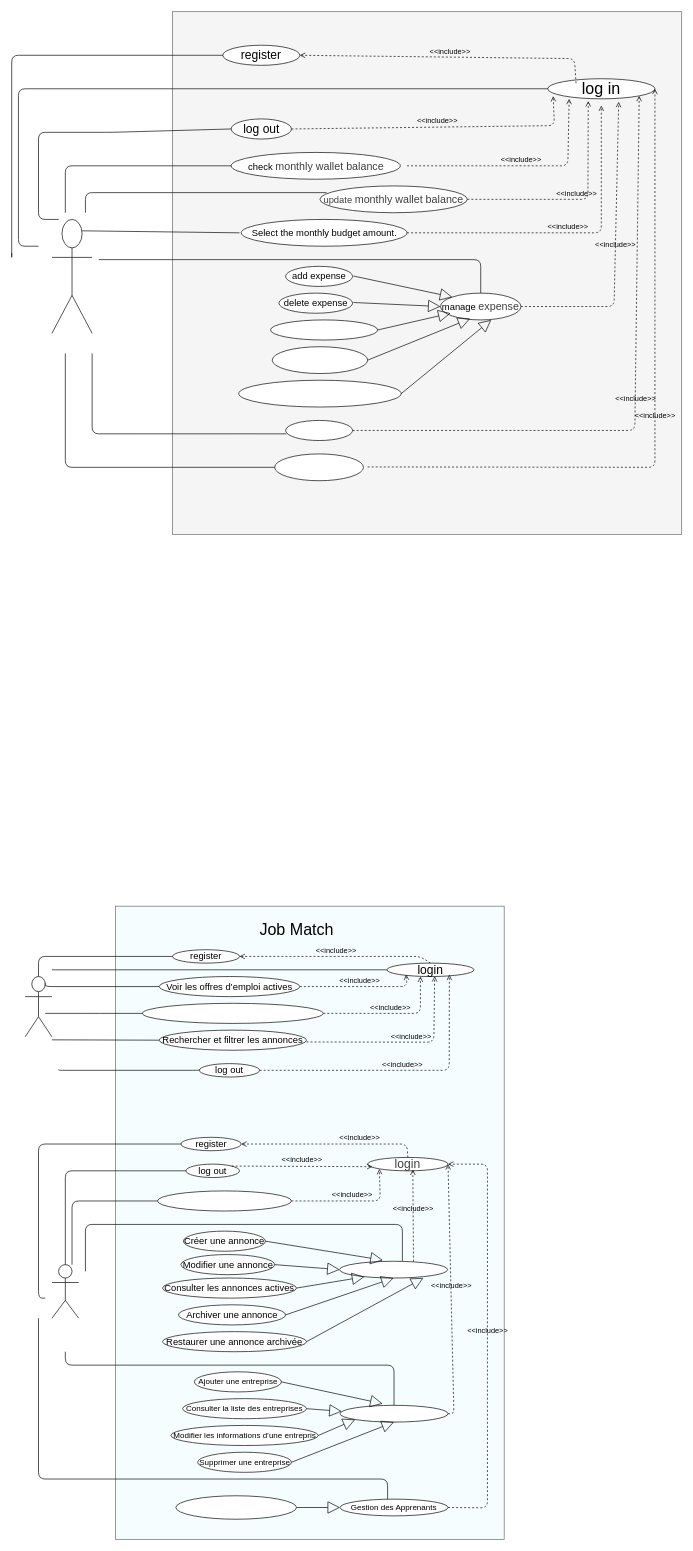
This 693x1551 diagram has some shape labels left out. The box of each missing label's shape, as (x1, y1, x2, y2) in pixels:
add category: (285, 420, 353, 441)
Admin: (51, 1264, 79, 1318)
Apprenant: (24, 976, 52, 1037)
check categories: (274, 453, 363, 481)
check expense list: (272, 346, 368, 374)
check Total expenses: (270, 319, 378, 340)
check total of monthly expenses: (238, 380, 401, 407)
Consulter la liste des apprenants: (175, 1495, 296, 1519)
Consulter les informations des entreprises: (142, 1003, 323, 1023)
Consulter statistiques globales: (157, 1190, 291, 1211)
Gestion des Annonces: (339, 1261, 448, 1278)
Gestion des Entreprises: (339, 1405, 448, 1422)
USER: (51, 219, 92, 333)
